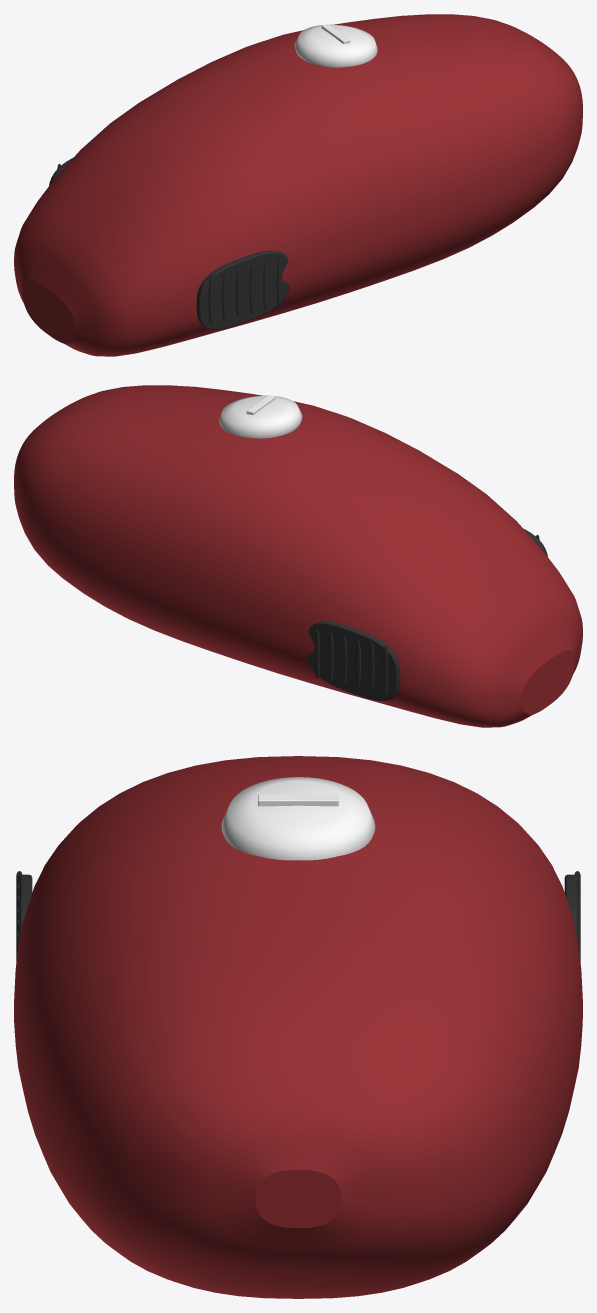
The model's file is bike_classic_4t__fuel_tank.glb.
The picture shows the model from 3 angles, top to bottom: view 1: azimuth 30°, elevation 25°; view 2: azimuth 150°, elevation 25°; view 3: azimuth 270°, elevation 25°; orthographic projection. The views are drawn at different scales.
Visible parts, largest first — view 1: frame_body__fuel_tank, frame_body__fuel_tank__knee_pads, frame_body__fuel_tank__filler_cap; view 2: frame_body__fuel_tank, frame_body__fuel_tank__knee_pads, frame_body__fuel_tank__filler_cap; view 3: frame_body__fuel_tank, frame_body__fuel_tank__filler_cap, frame_body__fuel_tank__knee_pads.
Part boxes in pixels (box(x1,y1,x2,y2)): frame_body__fuel_tank: box(14, 14, 582, 356); frame_body__fuel_tank__knee_pads: box(49, 158, 289, 329); frame_body__fuel_tank__filler_cap: box(294, 24, 377, 67); frame_body__fuel_tank: box(14, 385, 582, 727); frame_body__fuel_tank__knee_pads: box(307, 529, 547, 700); frame_body__fuel_tank__filler_cap: box(219, 395, 302, 438); frame_body__fuel_tank: box(14, 756, 582, 1298); frame_body__fuel_tank__filler_cap: box(221, 777, 375, 860); frame_body__fuel_tank__knee_pads: box(16, 871, 580, 961).
Bounding box in the file's own units: 51.1 × 22.9 × 26.62.
